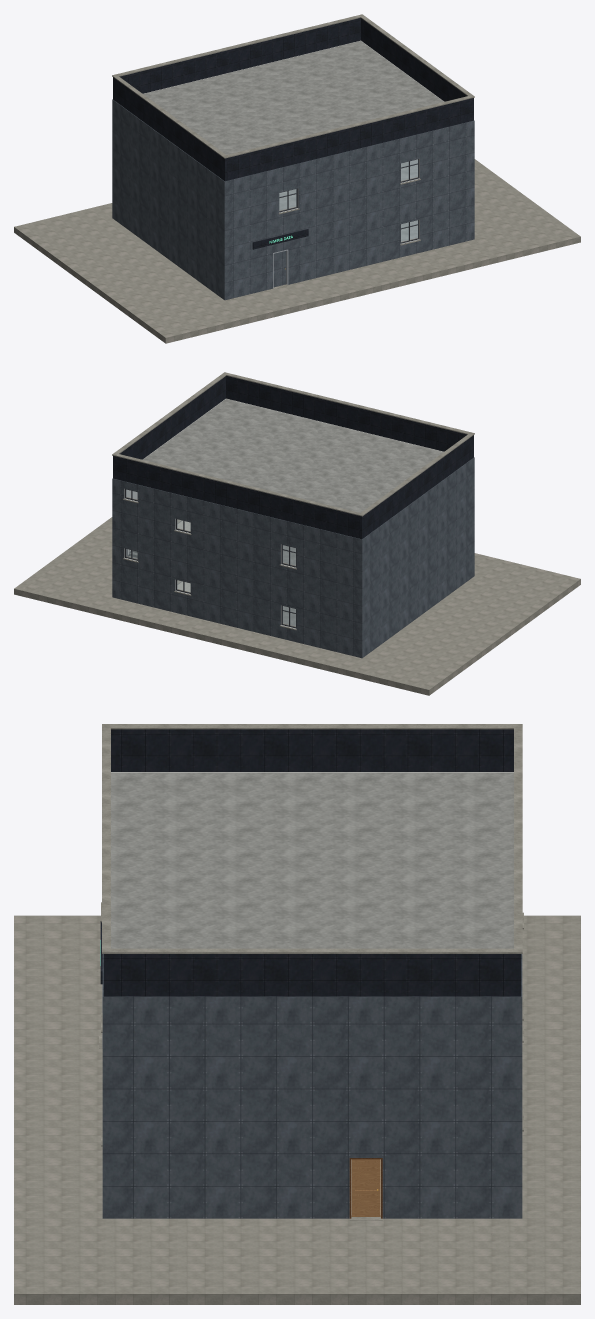
File: b_data_center.gltf
3 views of the same model, one above another, from view 1: azimuth 30°, elevation 25°; view 2: azimuth 150°, elevation 25°; view 3: azimuth 270°, elevation 25° (orthographic). The views are drawn at different scales.
Visible parts, largest first — view 1: S_data_center, D_data_center_F1_S1_Door0; view 2: S_data_center; view 3: S_data_center, D_data_center_F1_E0_Door0.
Boxes of the visible parts, bbox=[...] form: S_data_center: bbox=[14, 14, 580, 343]; D_data_center_F1_S1_Door0: bbox=[273, 251, 286, 287]; S_data_center: bbox=[14, 372, 580, 695]; S_data_center: bbox=[14, 724, 580, 1304]; D_data_center_F1_E0_Door0: bbox=[351, 1159, 380, 1216].
Size of the model in its own units: 30 by 10.26 by 19.
17 materials, 10 textured.
